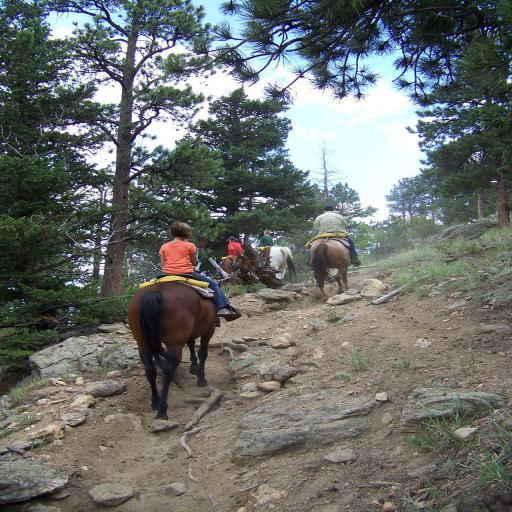horse: (126, 282, 218, 420), (306, 234, 350, 303), (258, 243, 298, 283), (217, 254, 250, 284)
